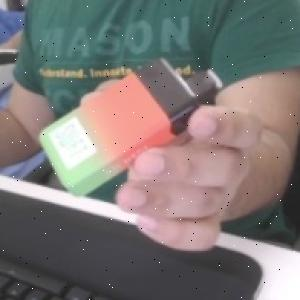Swift-E-Ciggirate: (34, 54, 226, 198)
